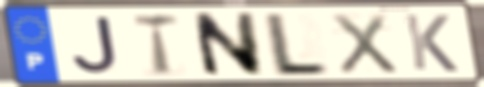J: (70, 15, 121, 77)
K: (401, 12, 462, 74)
L: (264, 11, 331, 78)
N: (188, 11, 266, 79)
T: (131, 12, 183, 78)
X: (328, 12, 402, 76)
